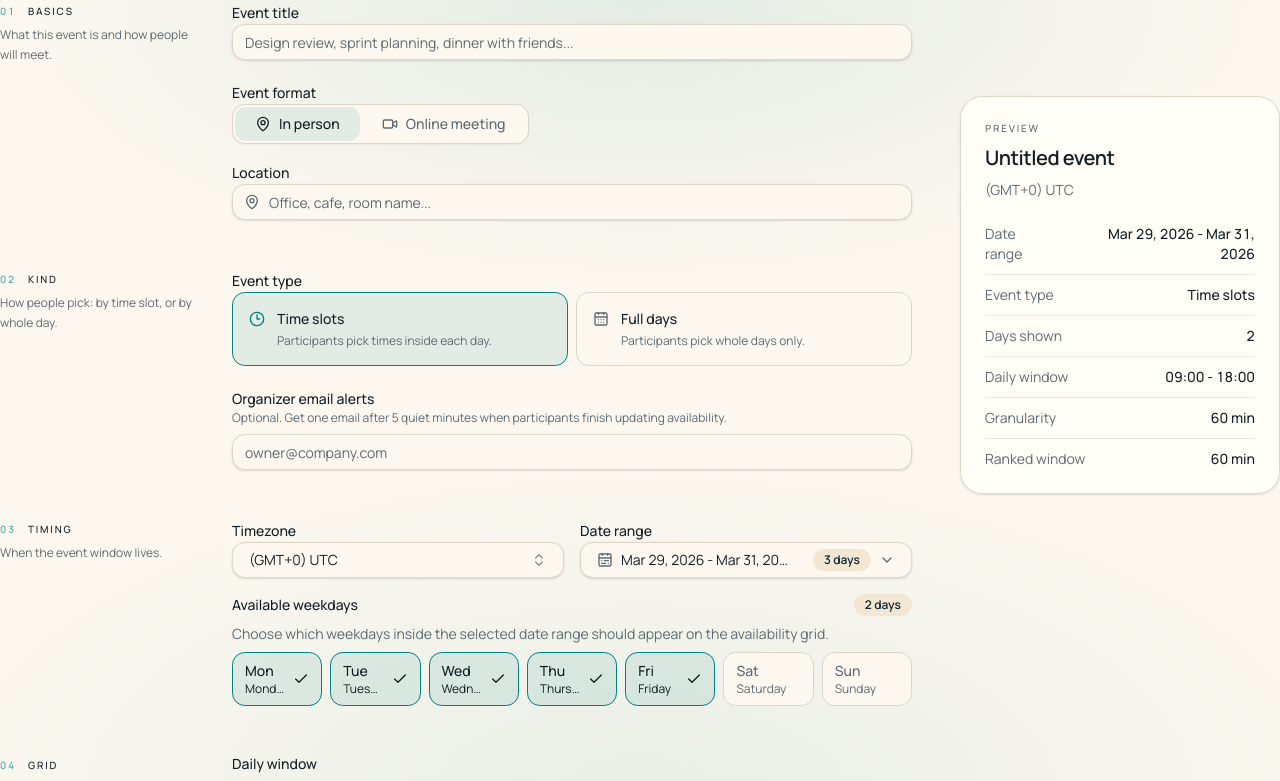
Test: CreateEventForm › sorts timezone options by GMT offset for the selected range start
What coordinates should you click on to do the following:
click the dropdown named "Timezone"
I would click on:
 (293, 560)
Its box is [232, 542, 564, 578].
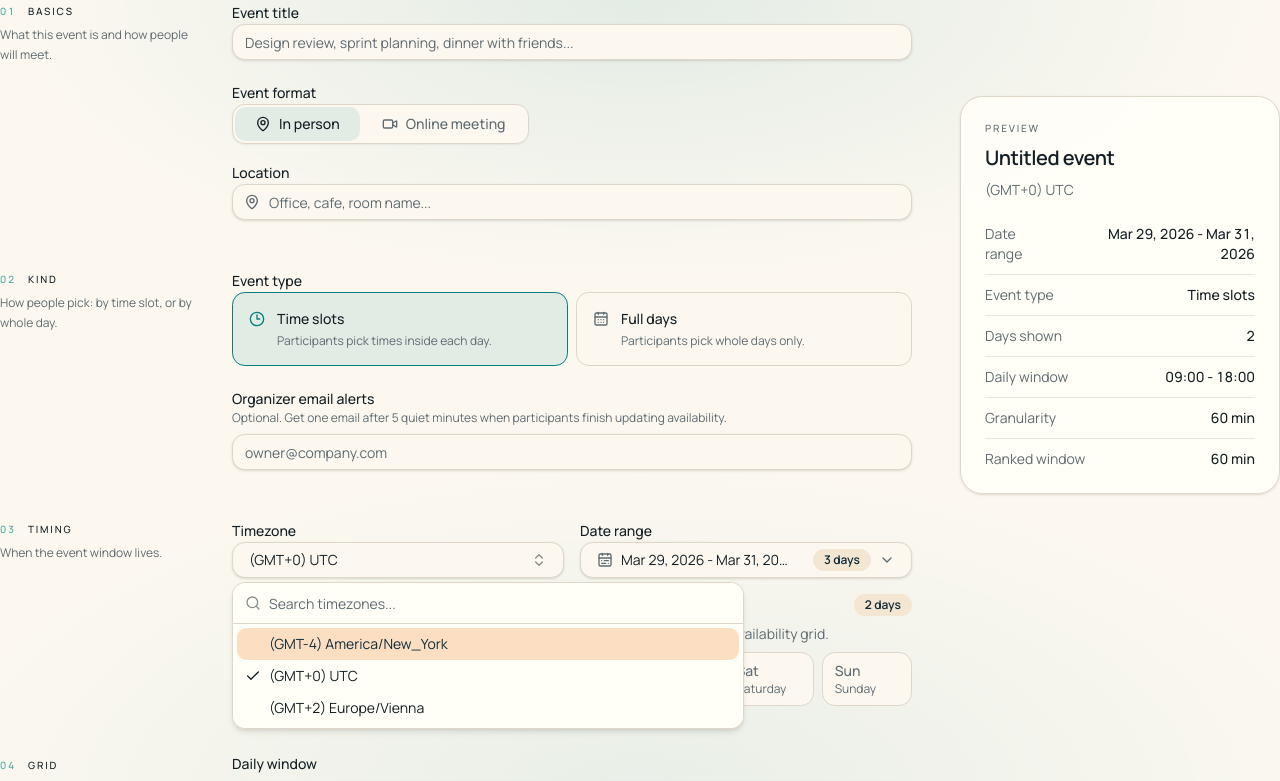
Expected: the options read "(GMT-4) America/New_York", "(GMT+0) UTC", "(GMT+2) Europe/Vienna", in this order, [237, 628, 739, 660]; [245, 666, 358, 685]; [269, 698, 424, 717]
